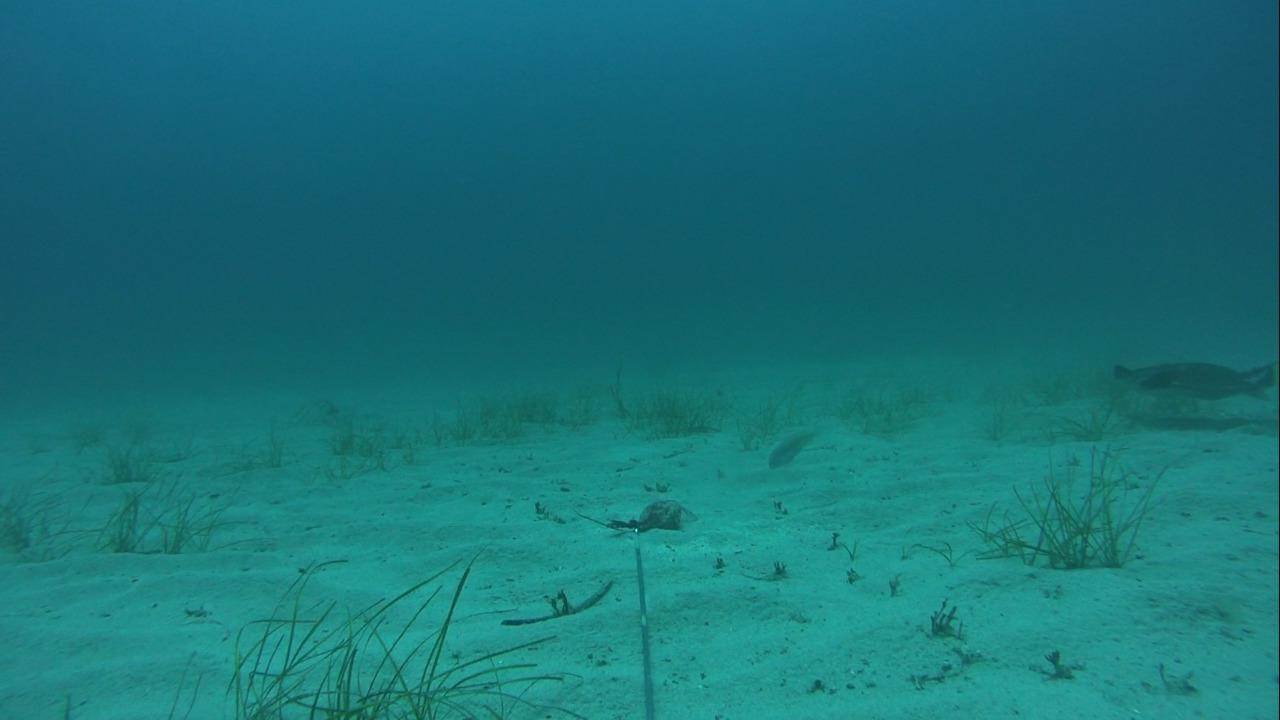myliobatis: (1099, 346, 1279, 408)
raor: (762, 424, 823, 472)
